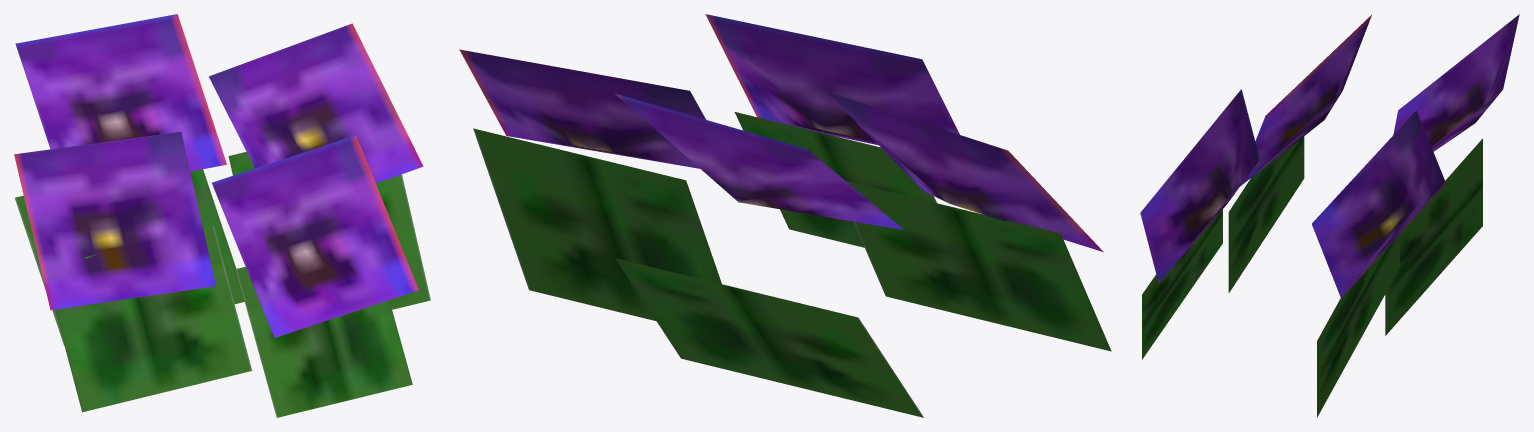
Rendered from flw_pansy_vi.dae.
3 views of the same model, side by side, from view 1: azimuth 30°, elevation 25°; view 2: azimuth 150°, elevation 25°; view 3: azimuth 270°, elevation 25° (orthographic). The views are drawn at different scales.
Visible parts, largest first — view 1: flw_pansy_vi; view 2: flw_pansy_vi; view 3: flw_pansy_vi.
Boxes of the visible parts, x1,y1,x2,y2 form: flw_pansy_vi: [14, 14, 430, 417]; flw_pansy_vi: [459, 14, 1111, 417]; flw_pansy_vi: [1140, 14, 1519, 417].
Size of the model in its own units: 32.39 by 19.38 by 26.27.
1 material, 1 textured.
